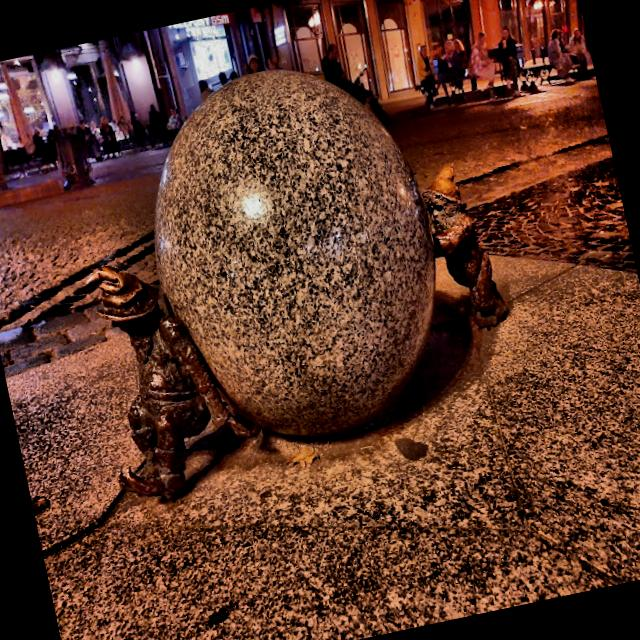Syzyfki: (32, 21, 546, 519)
